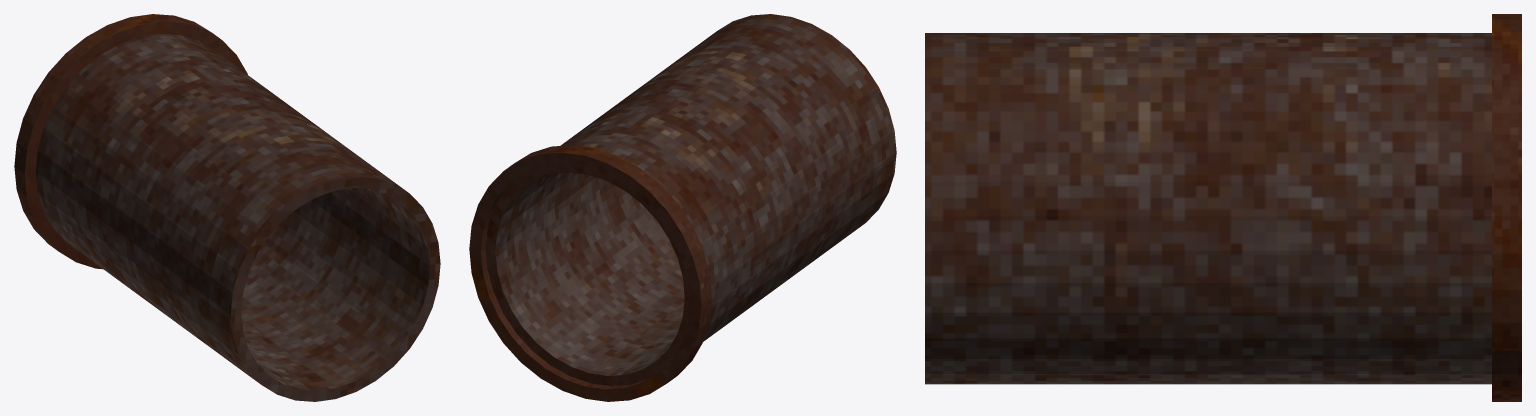
Rendered from pipe_short.fbx.
3 views of the same model, side by side, from view 1: azimuth 30°, elevation 25°; view 2: azimuth 150°, elevation 25°; view 3: azimuth 270°, elevation 25° (orthographic). The views are drawn at different scales.
Parts seen in each view (by area): view 1: pipe_short; view 2: pipe_short; view 3: pipe_short.
Part boxes in pixels (x1,y1,x2,y2): pipe_short: (14, 14, 440, 401); pipe_short: (469, 14, 896, 401); pipe_short: (925, 14, 1521, 401).
Size of the model in its own units: 221 by 221 by 339.
